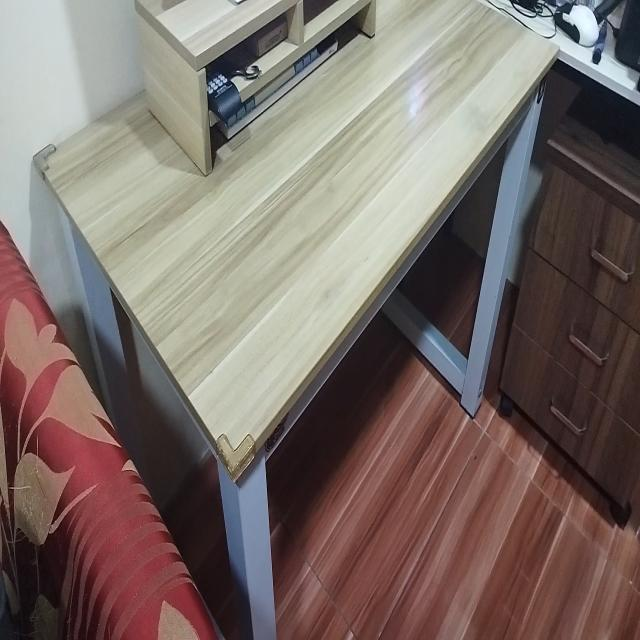table: (34, 0, 555, 640)
